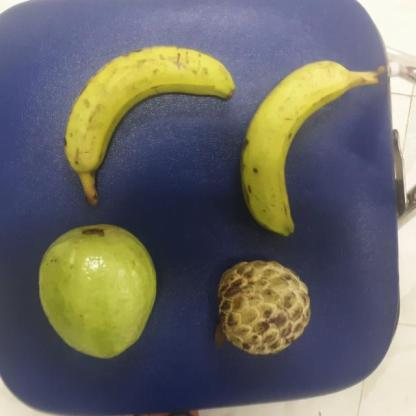annona: (213, 253, 317, 361)
banana: (60, 41, 240, 182), (237, 57, 358, 240)
guava: (37, 221, 159, 363)
